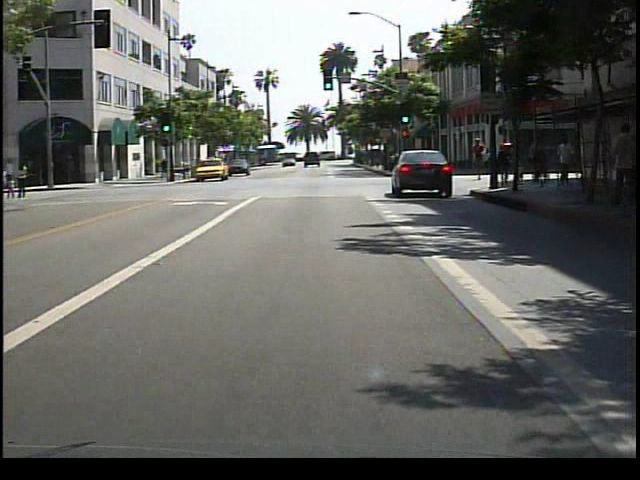person: (468, 134, 492, 186), (16, 160, 37, 200)
